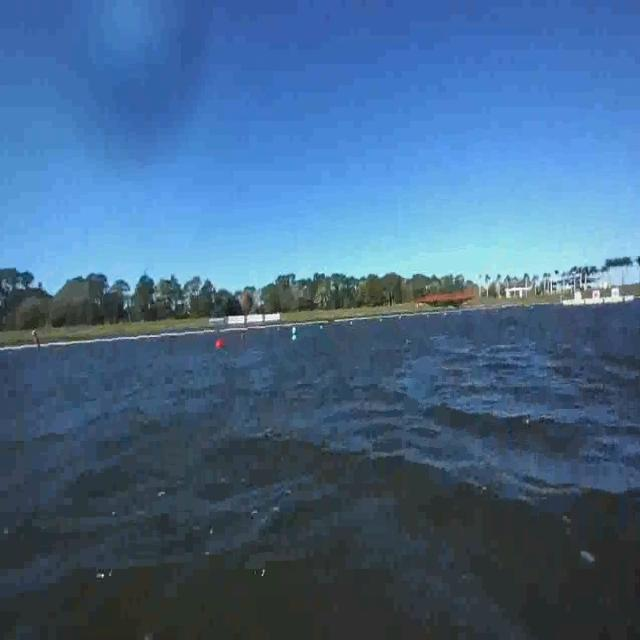green-buoy: (289, 326, 299, 346)
red-buoy: (216, 339, 224, 351)
